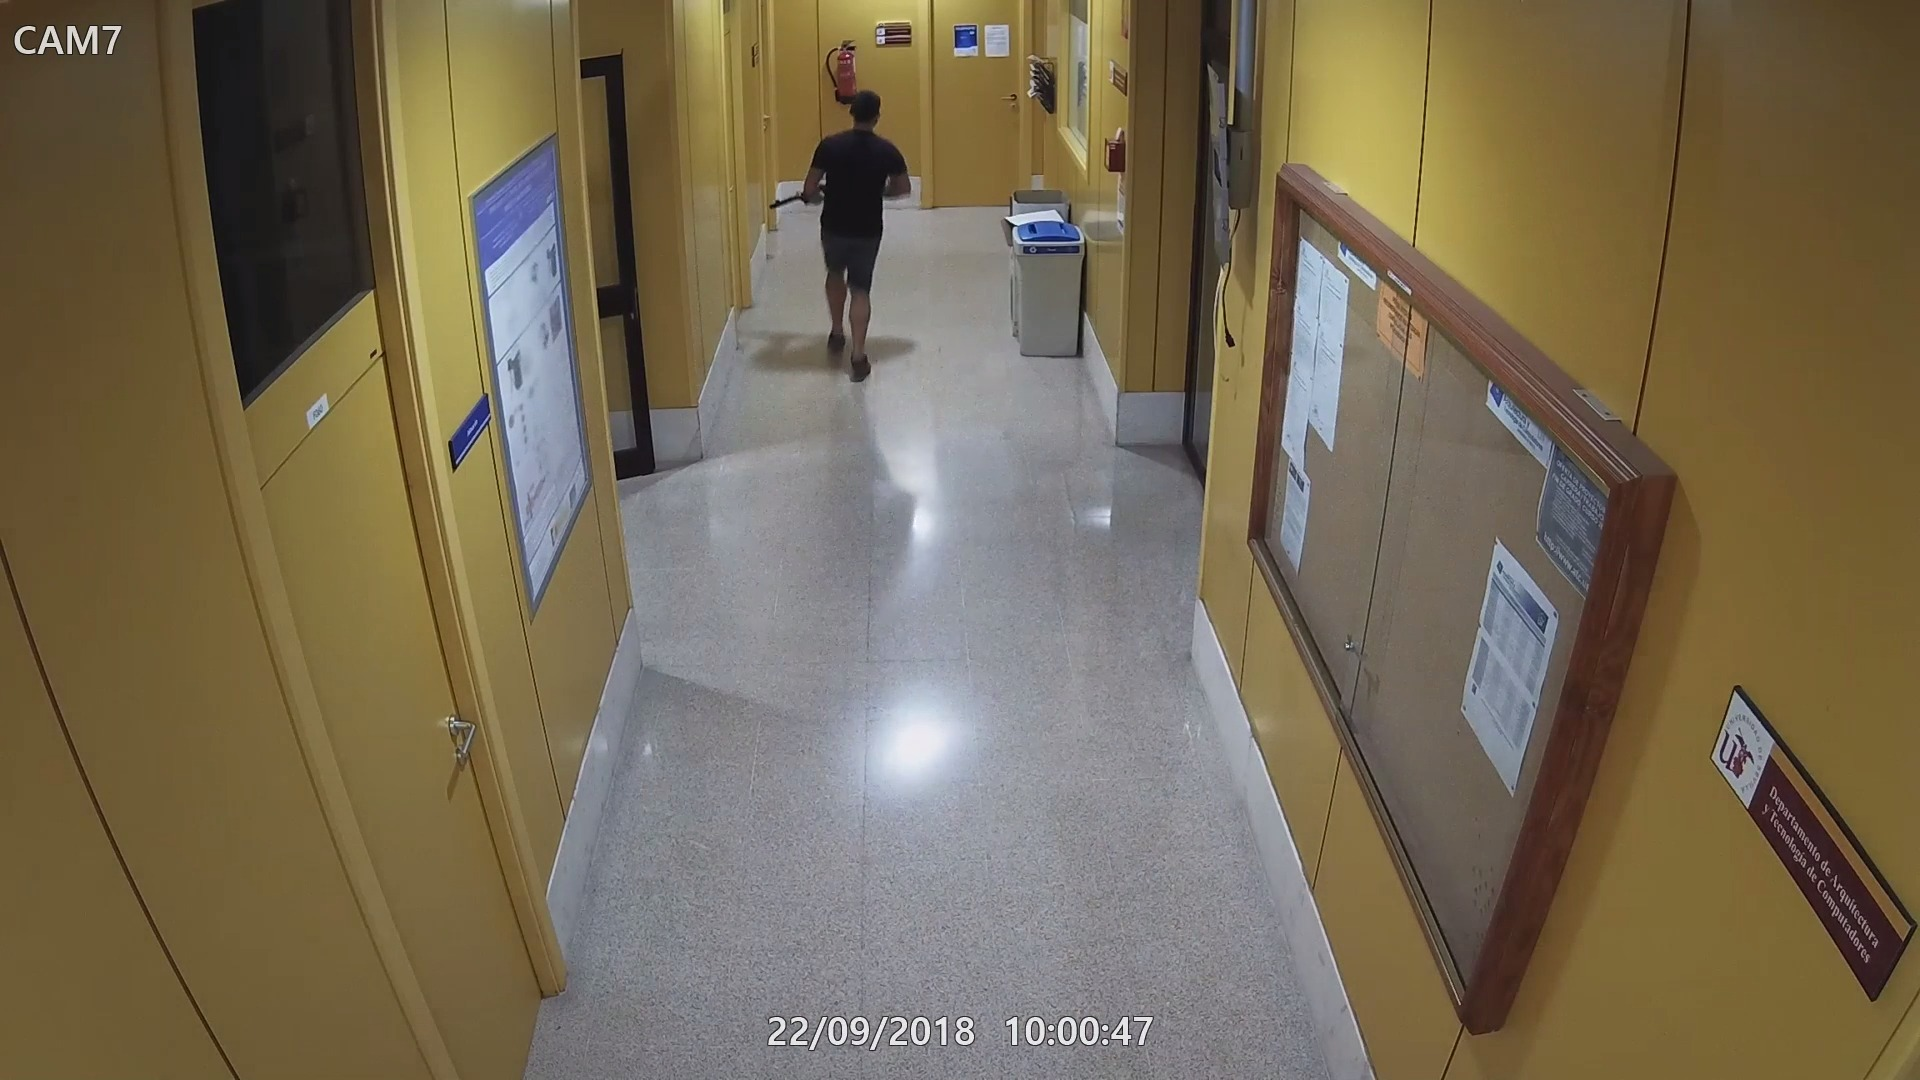Short_rifle: (761, 175, 825, 206)
